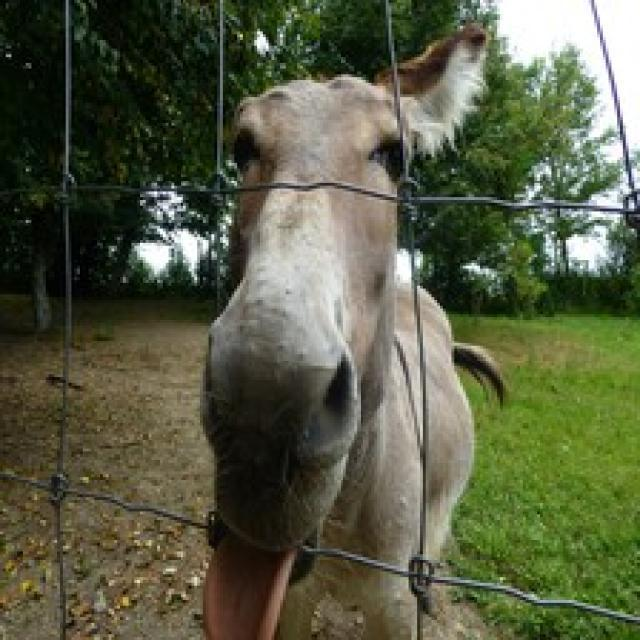Donkey: (141, 0, 548, 640)
